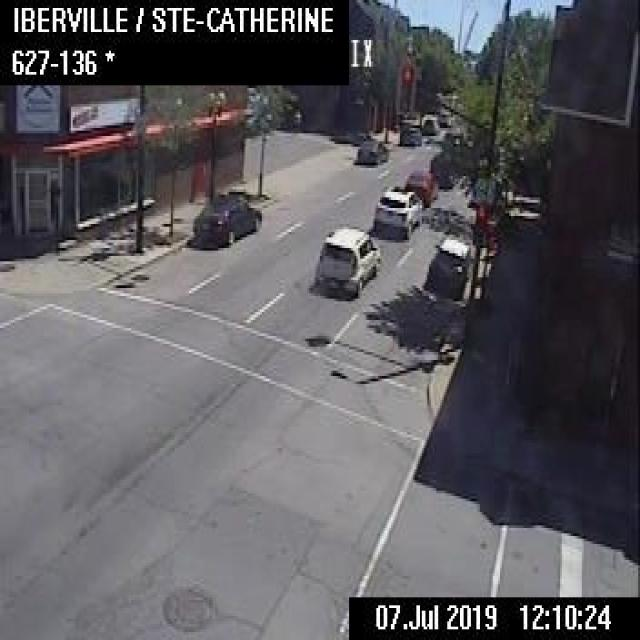vehicle: (313, 220, 378, 299), (191, 189, 262, 248), (423, 235, 469, 301), (372, 181, 421, 234), (401, 167, 438, 205), (351, 136, 389, 165), (398, 118, 420, 146), (418, 109, 437, 135), (435, 105, 452, 126)
